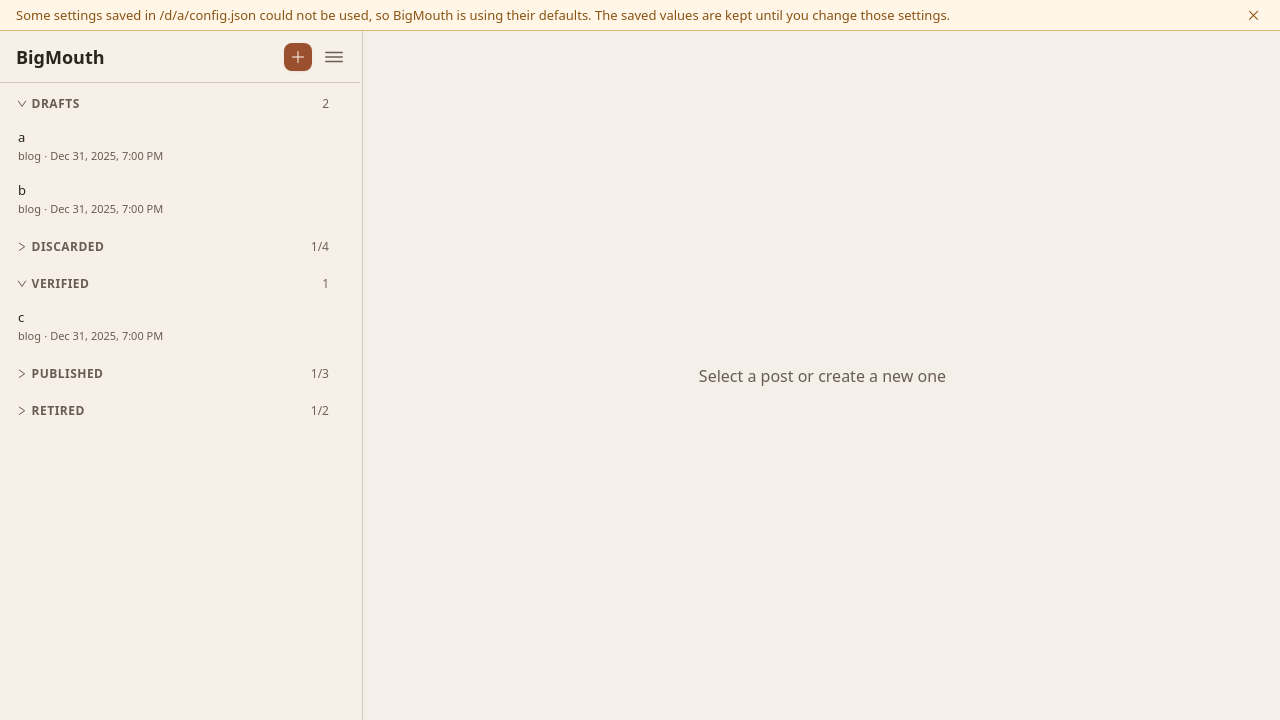
Scenario: WorkspaceSession initial load › says when stored settings could not be used, until dismissed
Expected: the text "Some settings saved in /d/a/config.json could not be used" is shown, [16,6,950,24]
Click the button named "Close result" at x=1253, y=15, box [1242,4,1264,26]
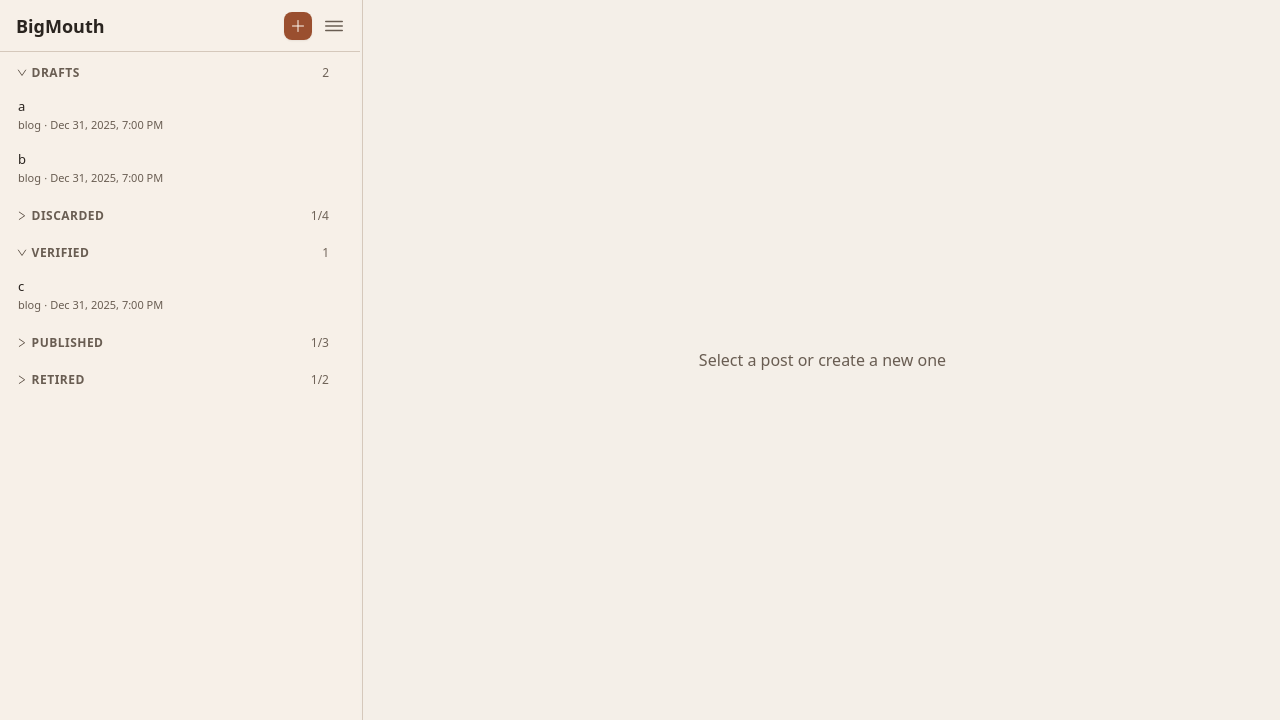
Now the message with class "toolbar-warning" is gone
